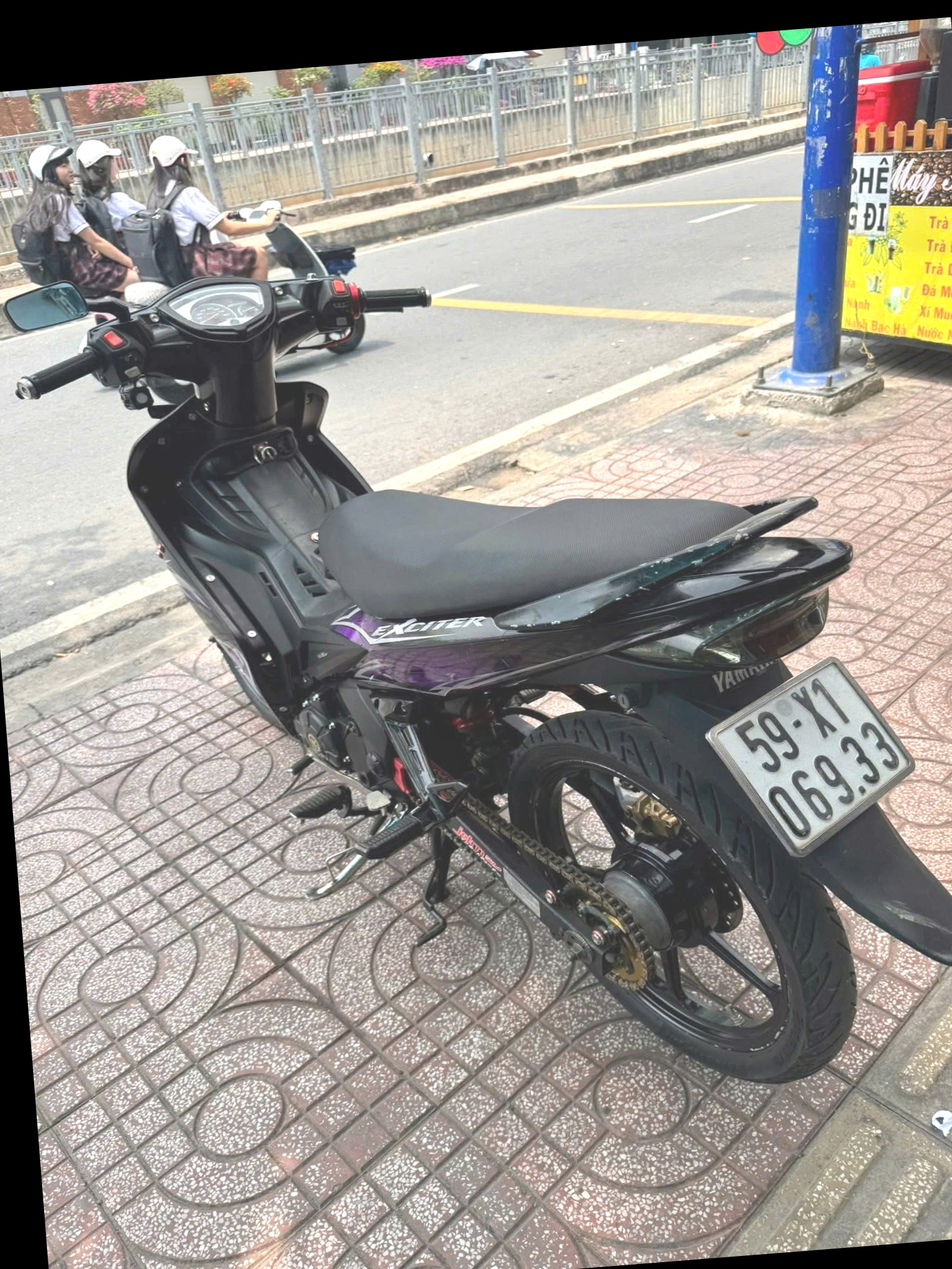Bien-so: (665, 657, 869, 854)
